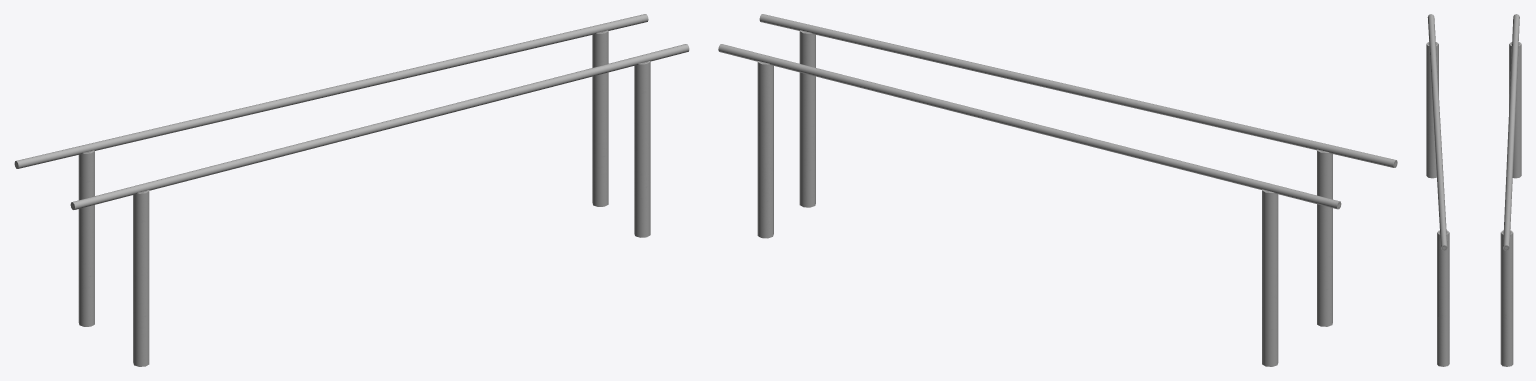
The model's file is MB_Bars.fbx.
The picture shows the model from 3 angles, left to right: view 1: azimuth 30°, elevation 25°; view 2: azimuth 150°, elevation 25°; view 3: azimuth 270°, elevation 25°; orthographic projection. The views are drawn at different scales.
Visible parts, largest first — view 1: MB_Bars_LOD0; view 2: MB_Bars_LOD0; view 3: MB_Bars_LOD0.
Boxes of the visible parts, bbox=[...] form: MB_Bars_LOD0: bbox=[14, 14, 689, 366]; MB_Bars_LOD0: bbox=[718, 14, 1397, 366]; MB_Bars_LOD0: bbox=[1426, 14, 1521, 366].
Size of what is drawn, in the model's own units: 400 by 110 by 69.94.
